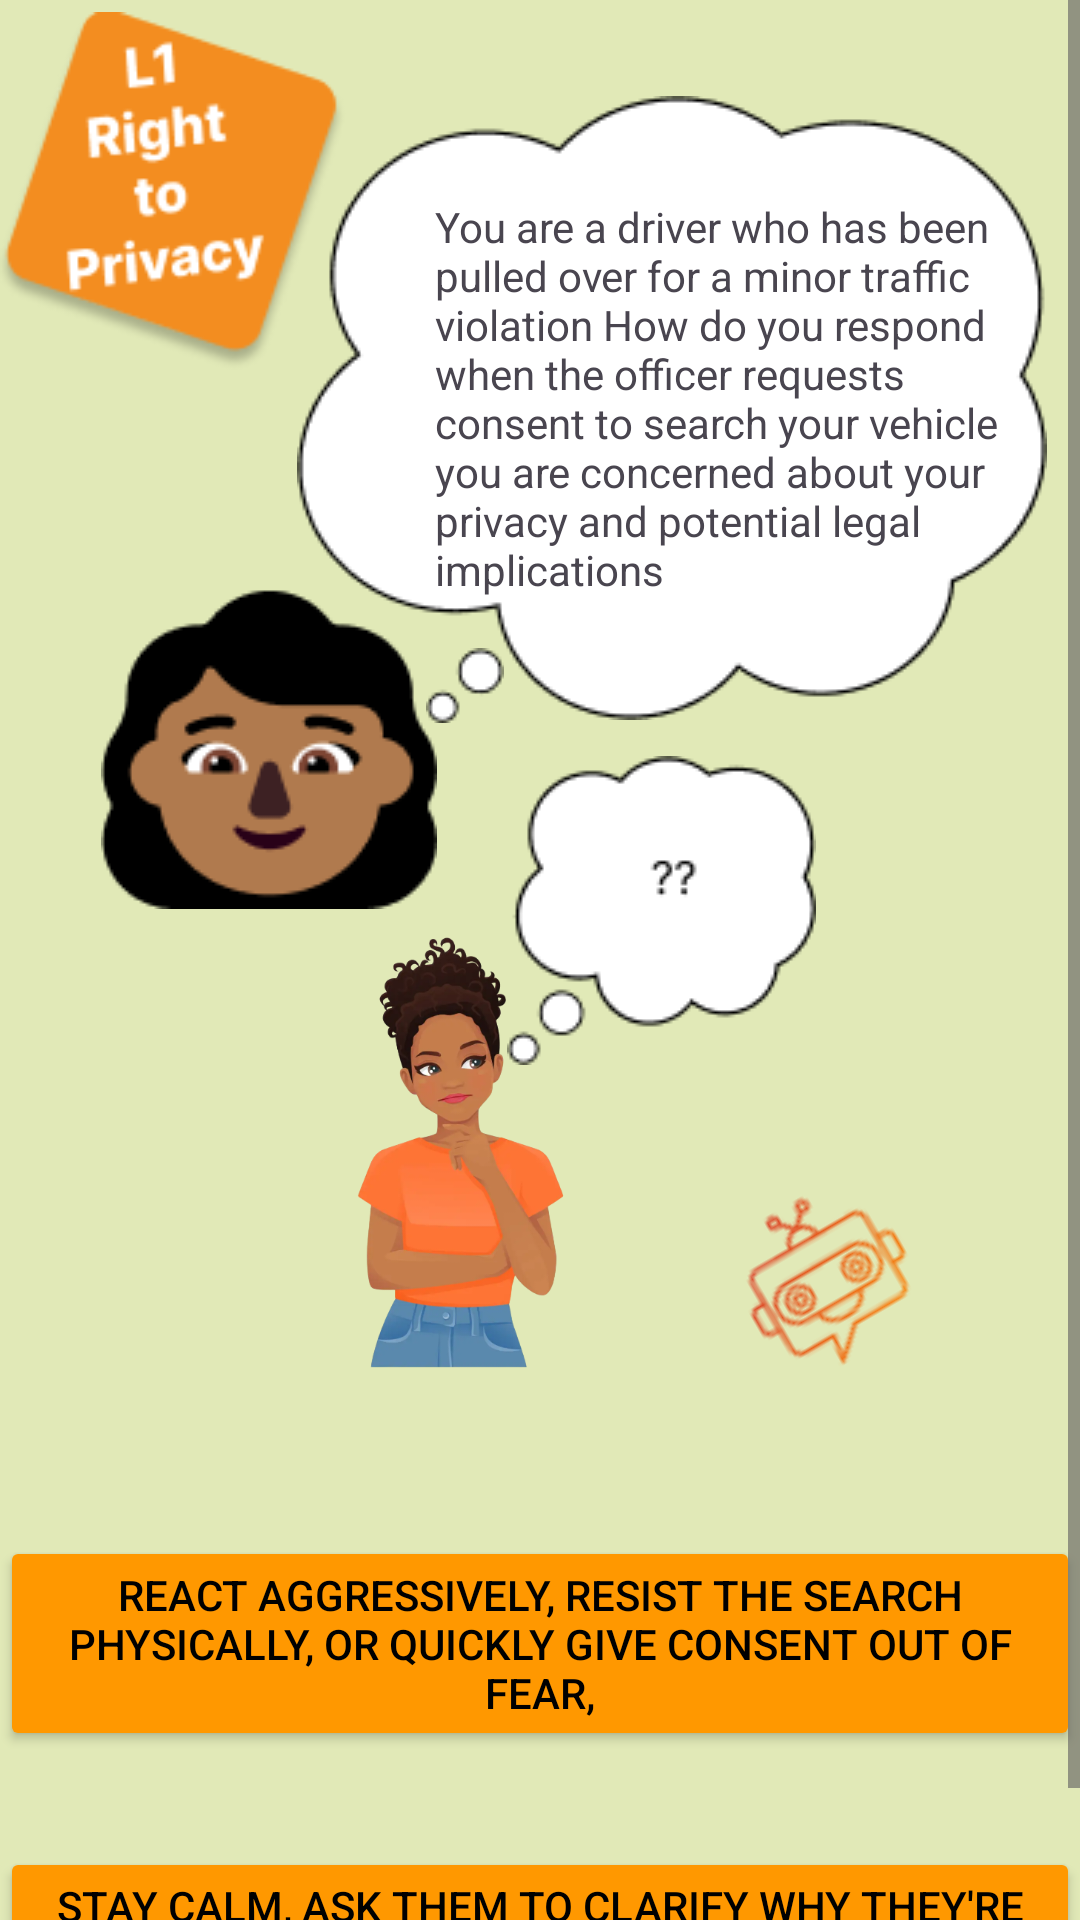

Screen size 1080 × 1920. Icon name, then its box in pixels as (x1,y1,x2,y2):
avatartwo: (101,590,437,909)
questiontag: (507,756,816,1065)
